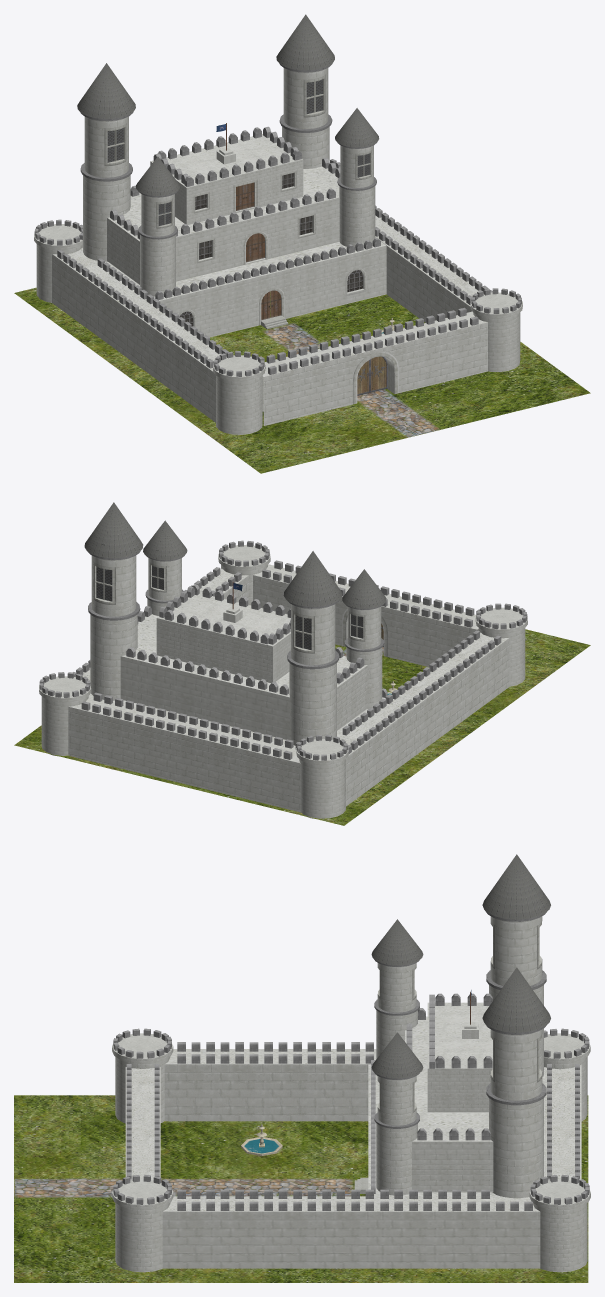
The model's file is Castle.obj.
3 views of the same model, one above another, from view 1: azimuth 30°, elevation 25°; view 2: azimuth 150°, elevation 25°; view 3: azimuth 270°, elevation 25° (orthographic). The views are drawn at different scales.
Visible parts, largest first — view 1: Castle_Exterior, Castle_Interior, Towers_Doors_and_Windows, Ground_and_Fountain; view 2: Castle_Exterior, Towers_Doors_and_Windows, Castle_Interior, Ground_and_Fountain; view 3: Castle_Exterior, Ground_and_Fountain, Towers_Doors_and_Windows, Castle_Interior.
Boxes of the visible parts, left/top/right/bottom form: Castle_Exterior: left=34, top=159, right=522, bottom=434; Castle_Interior: left=81, top=123, right=386, bottom=337; Towers_Doors_and_Windows: left=77, top=14, right=387, bottom=395; Ground_and_Fountain: left=14, top=287, right=590, bottom=473; Castle_Exterior: left=39, top=540, right=527, bottom=818; Towers_Doors_and_Windows: left=84, top=502, right=386, bottom=745; Castle_Interior: left=89, top=581, right=387, bottom=746; Ground_and_Fountain: left=14, top=629, right=590, bottom=825; Castle_Exterior: left=112, top=1028, right=590, bottom=1272; Ground_and_Fountain: left=14, top=1095, right=588, bottom=1282; Towers_Doors_and_Windows: left=354, top=854, right=550, bottom=1198; Castle_Interior: left=368, top=990, right=544, bottom=1196.
Bounding box in the file's own units: 58.11 × 40.26 × 75.6.
4 materials, 4 textured.
